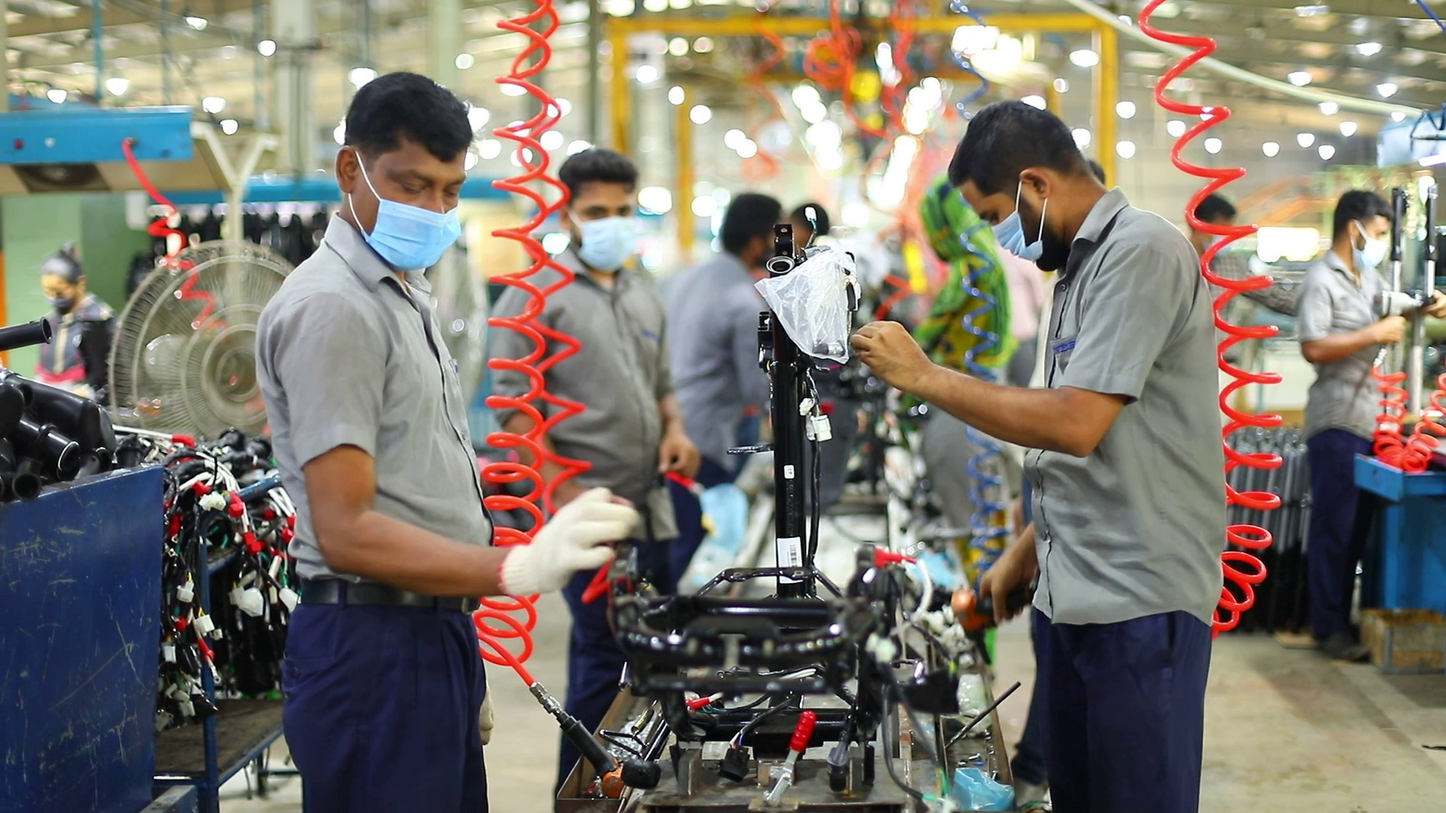mask: (361, 194, 467, 272), (572, 215, 640, 267), (982, 211, 1045, 263), (1354, 218, 1393, 271)
person: (246, 69, 655, 813), (850, 93, 1226, 813), (476, 147, 696, 733), (1273, 191, 1446, 664), (652, 191, 796, 493), (32, 244, 117, 396)
